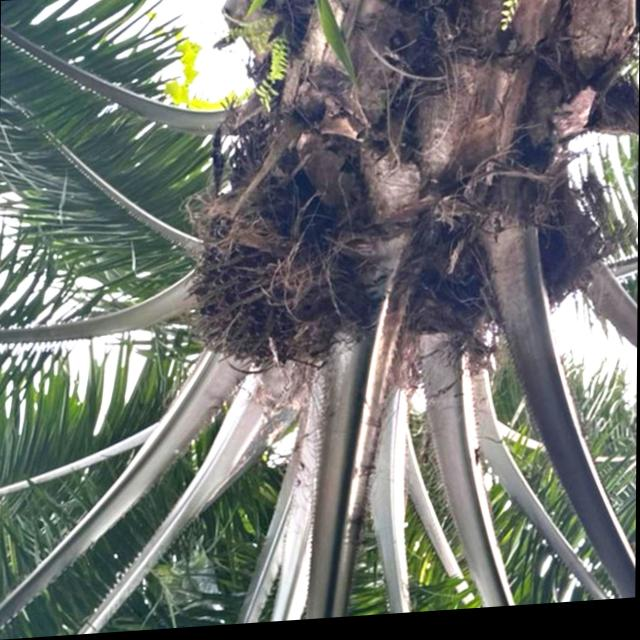ripe: (165, 188, 380, 393)
